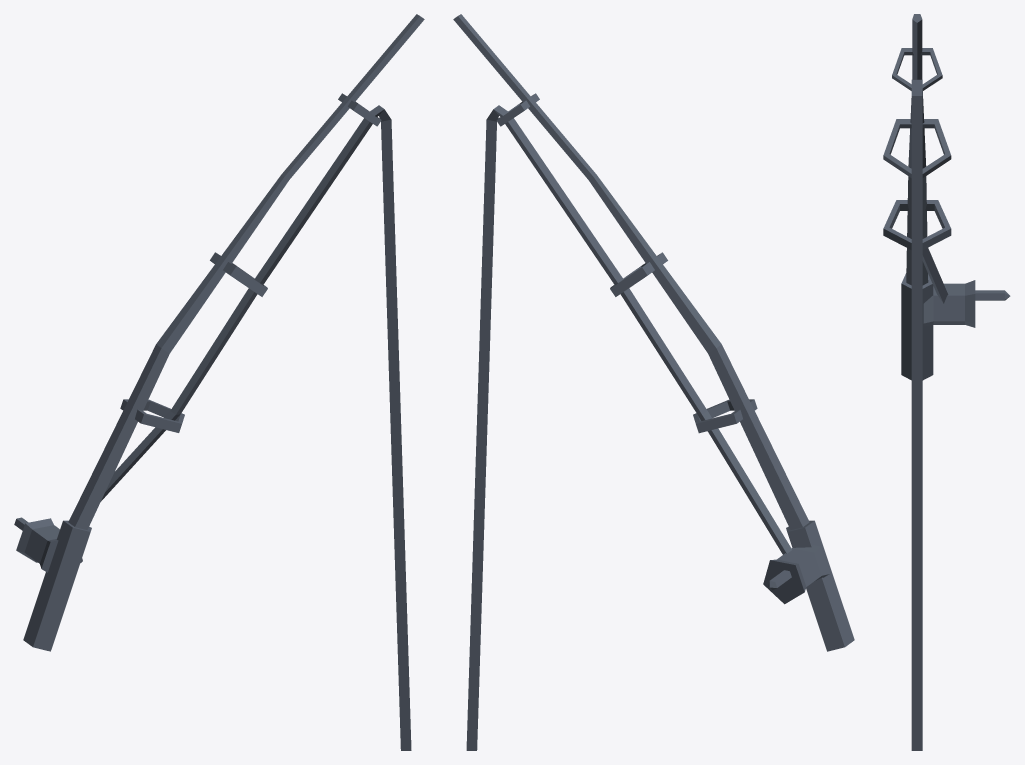
File: fishingRod1-compressed.glb
3 renders of one model, left to right at view 1: azimuth 30°, elevation 25°; view 2: azimuth 150°, elevation 25°; view 3: azimuth 270°, elevation 25°, orthographic.
Parts seen in each view (by area): view 1: fishingRod1; view 2: fishingRod1; view 3: fishingRod1.
Boxes of the visible parts, bbox=[...] form: fishingRod1: bbox=[14, 14, 424, 750]; fishingRod1: bbox=[453, 14, 854, 750]; fishingRod1: bbox=[883, 14, 1010, 750].
Size of the model in its own units: 0.9648 by 1.7 by 0.264.
